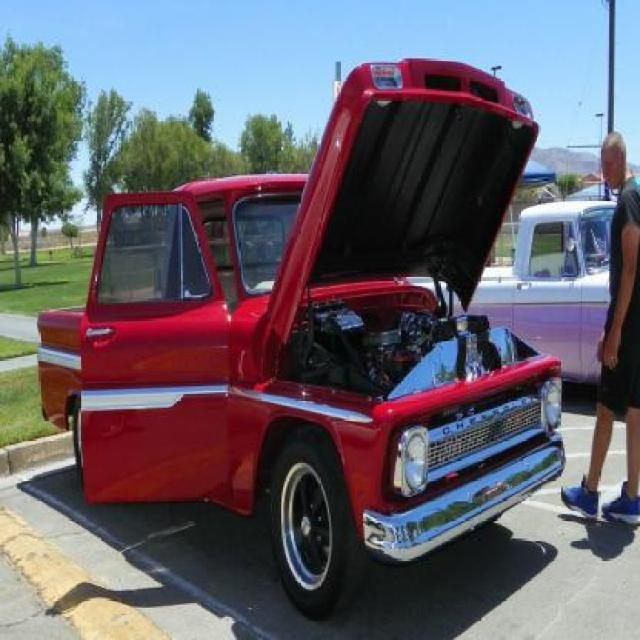Person: (560, 132, 638, 528)
